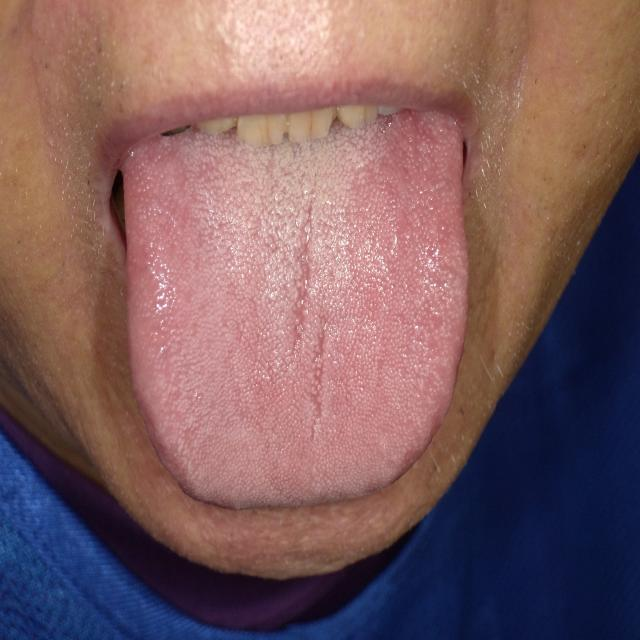baitaishe: (118, 109, 468, 509)
liewenshe: (290, 196, 327, 447)
